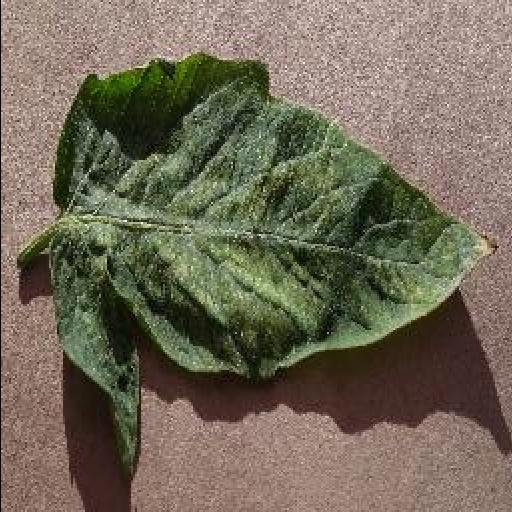disease_tomato: (48, 54, 498, 478)
